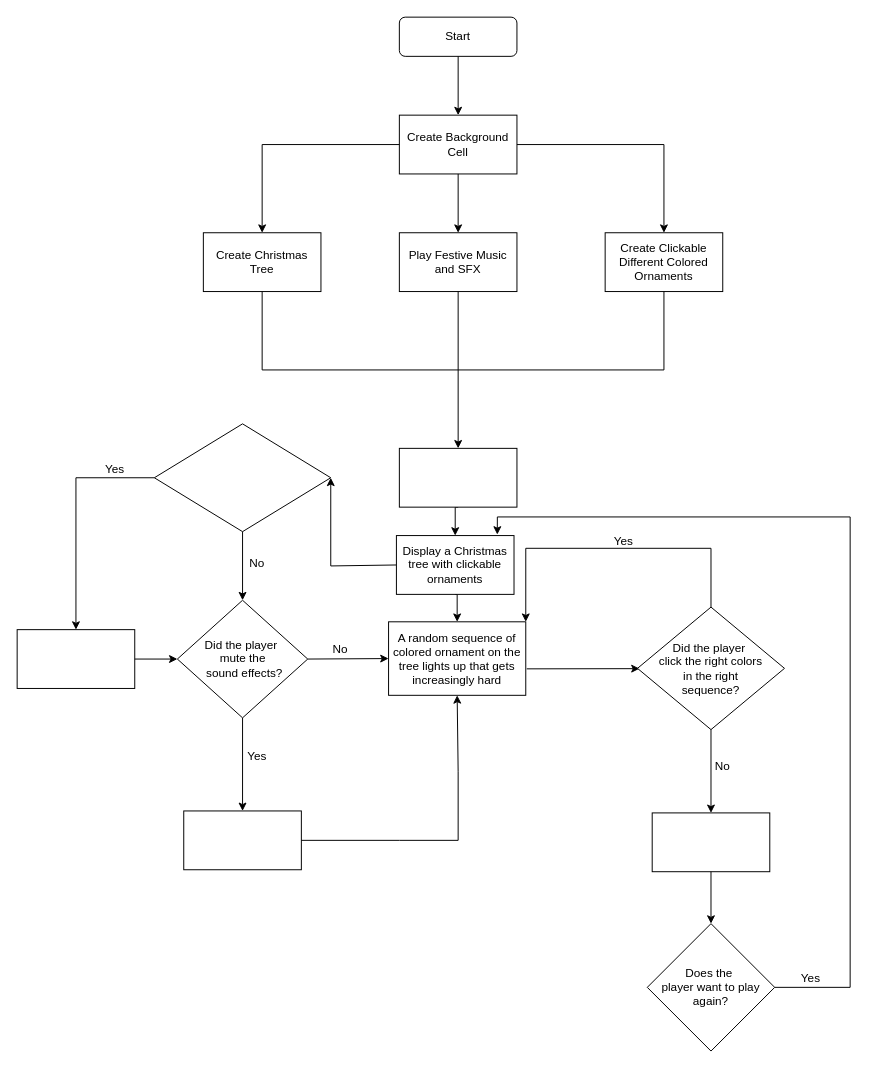
The diagram is 875 pixels wide and 1068 high, and some of its shapes have lost their labels. The box of each missing label's shape, as (x1, y1, x2, y2) in pixels:
Did the player mute music?: (153, 423, 331, 532)
Display a Game over screen: (651, 812, 770, 872)
Mute Music: (16, 629, 135, 688)
Mute Sound Effects: (183, 810, 301, 870)
Player presses the play button: (398, 447, 517, 507)
